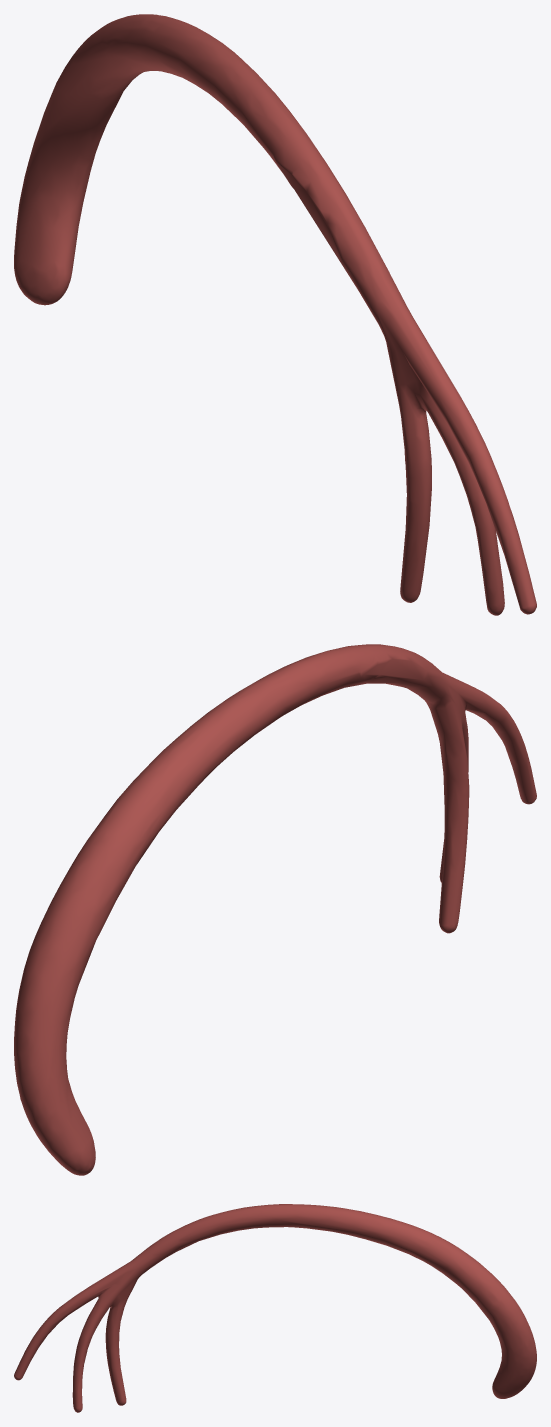
The model's file is FMA73414.glb.
The picture shows the model from 3 angles, top to bottom: view 1: azimuth 30°, elevation 25°; view 2: azimuth 150°, elevation 25°; view 3: azimuth 270°, elevation 25°; orthographic projection. The views are drawn at different scales.
Parts seen in each view (by area): view 1: FMA73414; view 2: FMA73414; view 3: FMA73414.
Boxes of the visible parts, left/top/right/bottom form: FMA73414: left=14, top=14, right=536, bottom=615; FMA73414: left=14, top=644, right=536, bottom=1175; FMA73414: left=14, top=1204, right=536, bottom=1412.
Bounding box in the file's own units: 0.00374 × 0.0149 × 0.0348.
